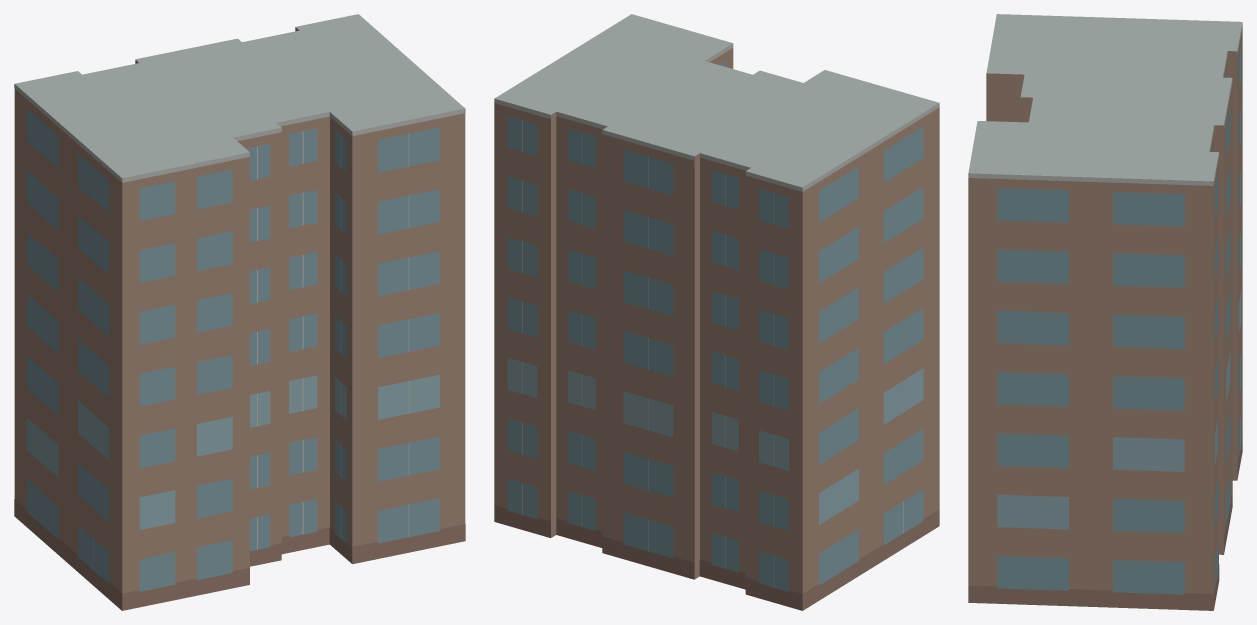
File: survey-upis-33008548.glb
3 renders of one model, left to right at view 1: azimuth 30°, elevation 25°; view 2: azimuth 150°, elevation 25°; view 3: azimuth 270°, elevation 25°, orthographic. The views are drawn at different scales.
Visible parts, largest first — view 1: survey-upis-33008548.tmp; view 2: survey-upis-33008548.tmp; view 3: survey-upis-33008548.tmp.
Part boxes in pixels (<box>): survey-upis-33008548.tmp: <box>14,14,465,610</box>; survey-upis-33008548.tmp: <box>494,14,939,610</box>; survey-upis-33008548.tmp: <box>968,14,1242,610</box>.
Size of the model in its own units: 19.63 by 23.45 by 13.59.
